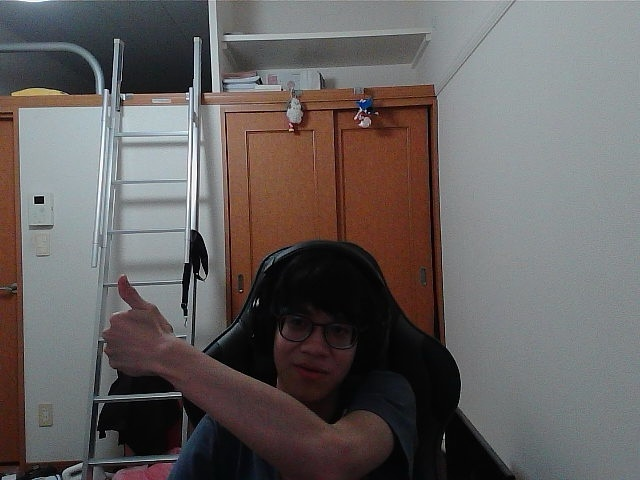thumb_up: (108, 278, 161, 364)
